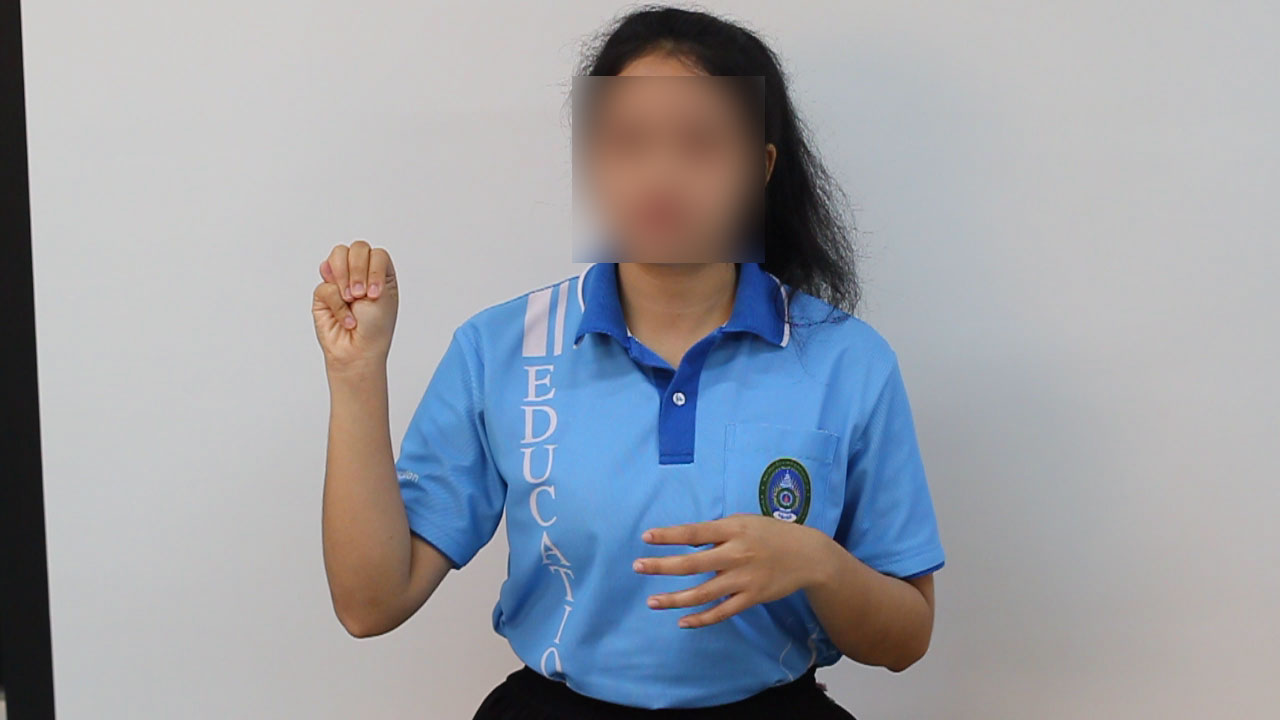mor: (303, 219, 413, 380)
